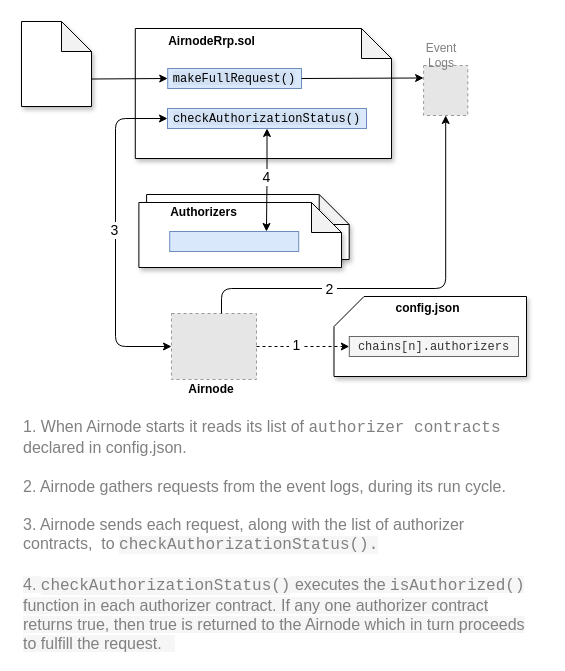
This 565x671 diagram has some shape labels left out. Grey dashed boxes stand in for pictures. Here are the shapes that lost their labels. From the top down, the centre of each, then its label:
(57,65): Requester
(234,241): isAuthorized()
